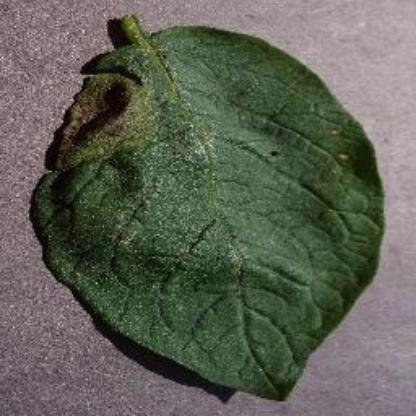Late-Blight: (30, 30, 392, 408)
